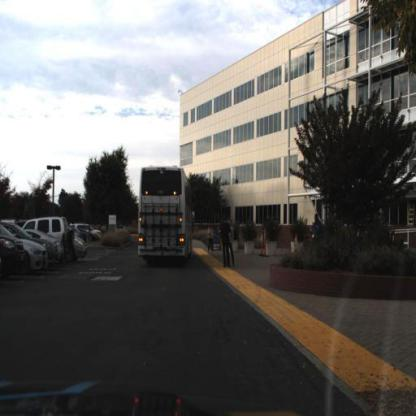car: (32, 215, 78, 251), (5, 229, 29, 271), (27, 239, 51, 275), (75, 231, 89, 262)
pedestrian: (220, 217, 231, 271), (310, 213, 328, 240), (204, 221, 216, 260), (230, 220, 238, 268)
truck: (135, 157, 195, 273)
